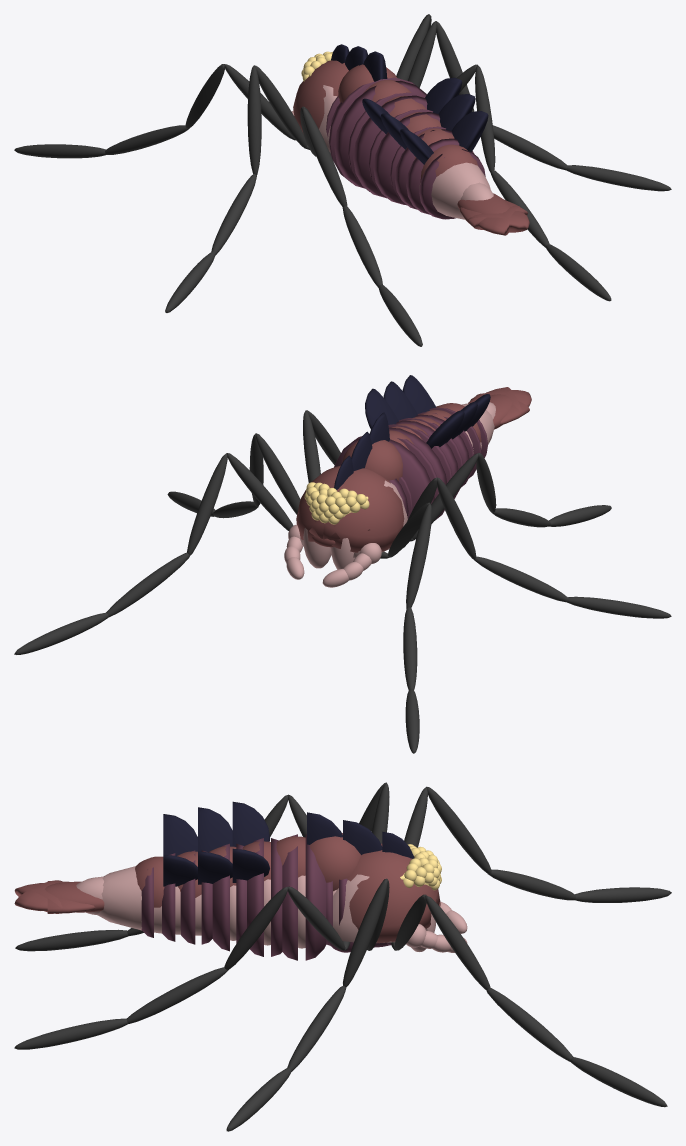
3 renders of one model, top to bottom at view 1: azimuth 30°, elevation 25°; view 2: azimuth 150°, elevation 25°; view 3: azimuth 270°, elevation 25°, orthographic. The views are drawn at different scales.
Parts seen in each view (by area): view 1: SimpleSphere02 (×24), SimpleDome02 (×16); view 2: SimpleSphere02 (×20), SimpleDome02 (×8); view 3: SimpleSphere02 (×22), SimpleDome02 (×23).
Boxes of the visible parts, left/top/right/bottom form: SimpleSphere02 (×24): left=14, top=14, right=671, bottom=346; SimpleDome02 (×16): left=293, top=51, right=529, bottom=235; SimpleSphere02 (×20): left=14, top=410, right=671, bottom=753; SimpleDome02 (×8): left=296, top=375, right=464, bottom=552; SimpleSphere02 (×22): left=14, top=782, right=671, bottom=1131; SimpleDome02 (×23): left=14, top=801, right=439, bottom=960.
Size of the model in its own units: 5258 by 5465 by 1719.
